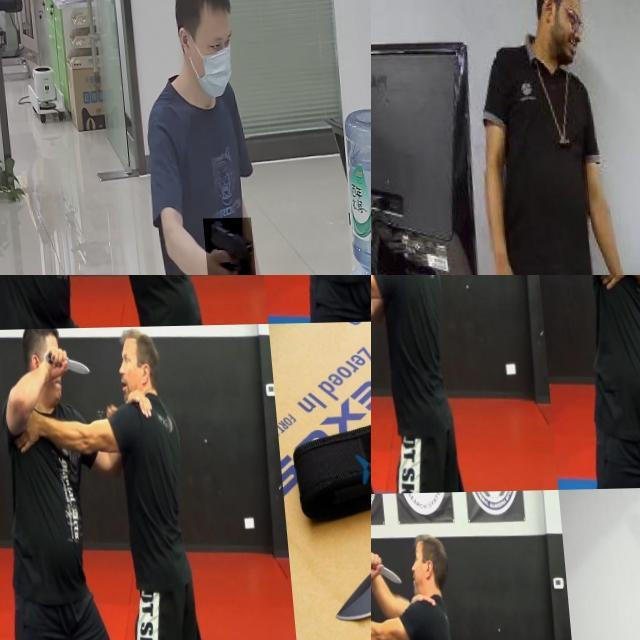-: (312, 511, 371, 625), (34, 344, 84, 378), (49, 275, 109, 296), (371, 548, 395, 588), (326, 275, 371, 293), (371, 275, 395, 292)
gun-knife-thesis - v11 Yolov5 augmented: (197, 219, 251, 275)
